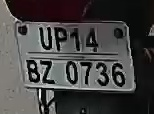0: (64, 58, 79, 86)
1: (69, 26, 85, 54)
3: (95, 60, 113, 90)
4: (85, 26, 102, 54)
6: (111, 61, 127, 90)
7: (79, 60, 94, 86)
B: (25, 58, 41, 86)
P: (53, 24, 68, 52)
U: (38, 24, 54, 52)
Z: (39, 56, 57, 84)
